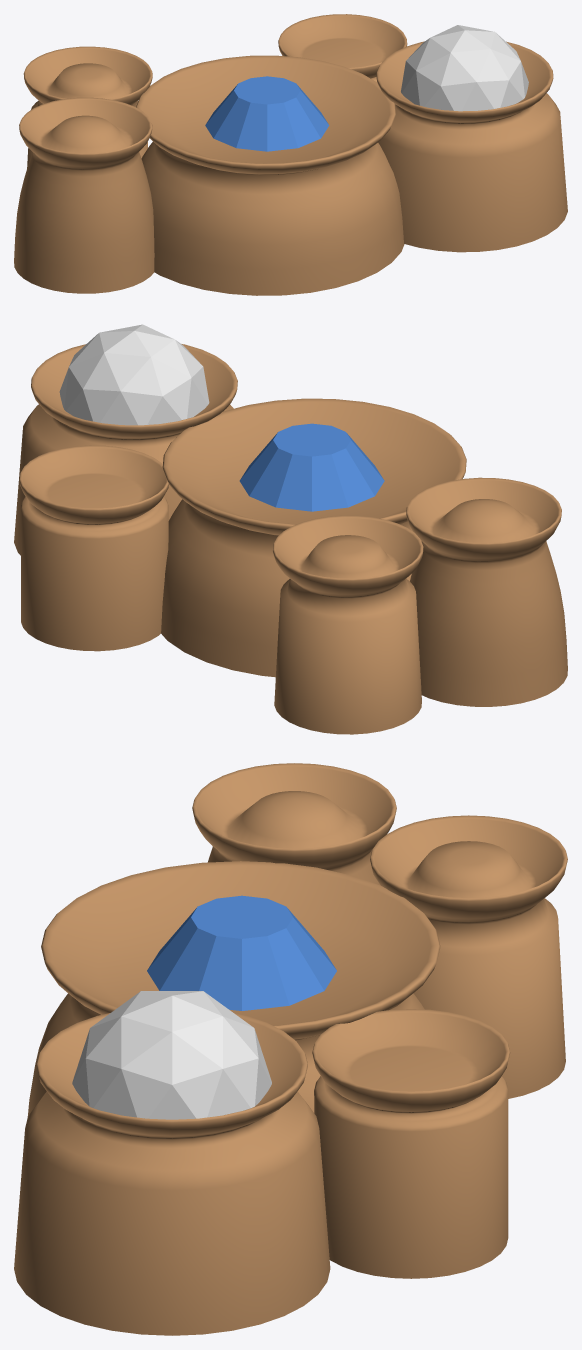
The model's file is solarpunk_island_compressed.glb.
3 renders of one model, top to bottom at view 1: azimuth 30°, elevation 25°; view 2: azimuth 150°, elevation 25°; view 3: azimuth 270°, elevation 25°, orthographic. The views are drawn at different scales.
Parts seen in each view (by area): view 1: WaterStorer; view 2: WaterStorer; view 3: WaterStorer.
Part boxes in pixels (x1=…): WaterStorer: x1=14, y1=14, x2=567, y2=295; WaterStorer: x1=14, y1=324, x2=567, y2=734; WaterStorer: x1=14, y1=763, x2=567, y2=1335.
Size of the model in its own units: 6.97 by 2.44 by 4.45.
